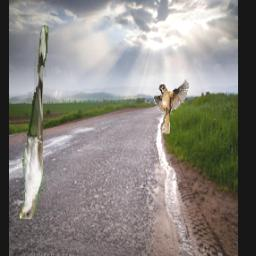Cuckoo: (20, 25, 48, 219)
Sparrow: (149, 78, 188, 134)
